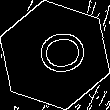O_W: (25, 29, 85, 81)
